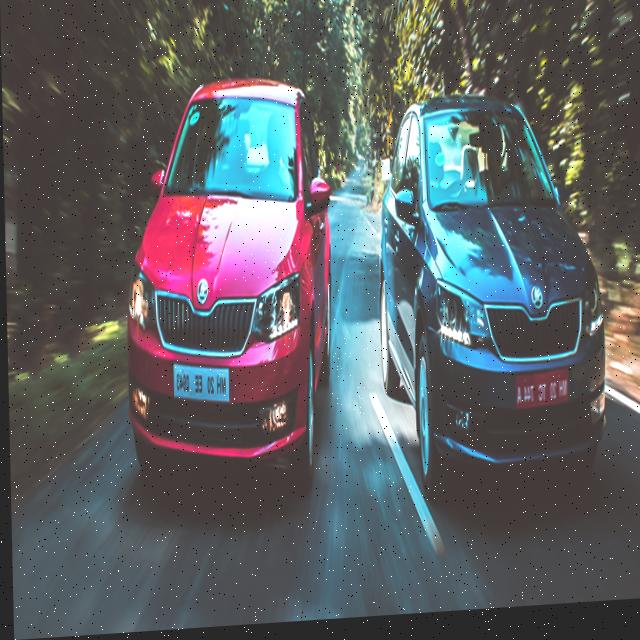plate: (170, 359, 229, 415), (511, 379, 570, 420)
